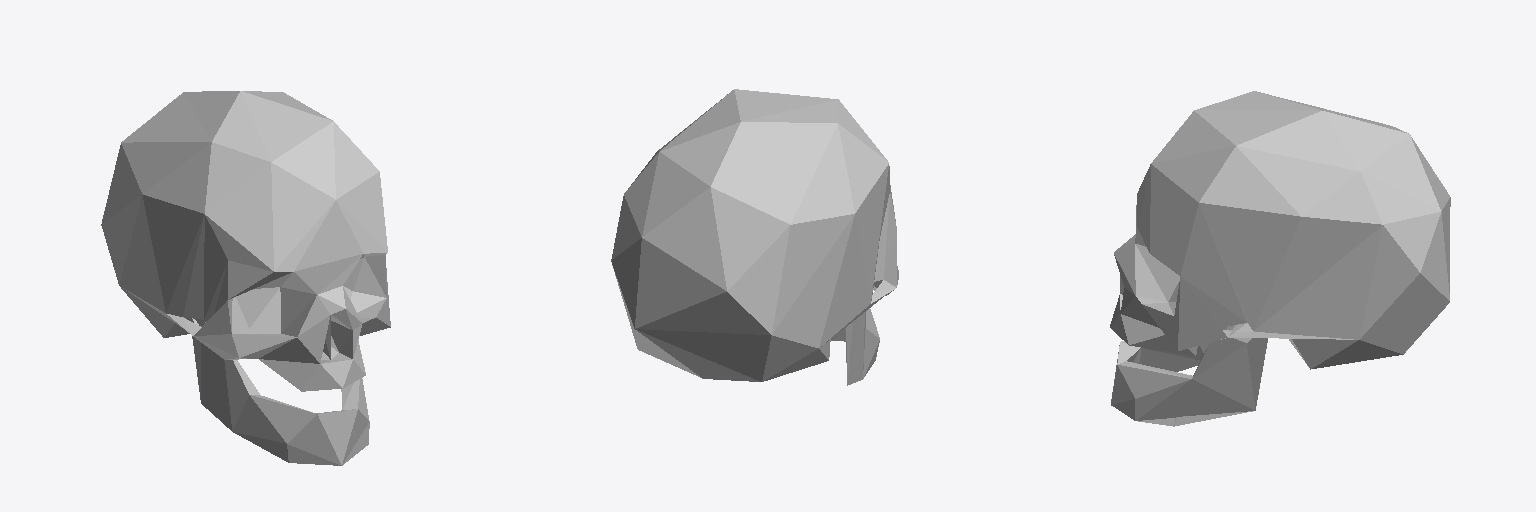
Rendered from skull_hitbox.obj.
3 renders of one model, left to right at view 1: azimuth 30°, elevation 25°; view 2: azimuth 150°, elevation 25°; view 3: azimuth 270°, elevation 25°, orthographic.
Parts seen in each view (by area): view 1: skull; view 2: skull; view 3: skull.
Boxes of the visible parts, x1=… form: skull: x1=101, y1=91, x2=390, y2=465; skull: x1=611, y1=89, x2=898, y2=385; skull: x1=1110, y1=91, x2=1450, y2=426.
Size of the model in its own units: 19.59 by 27.64 by 28.8.